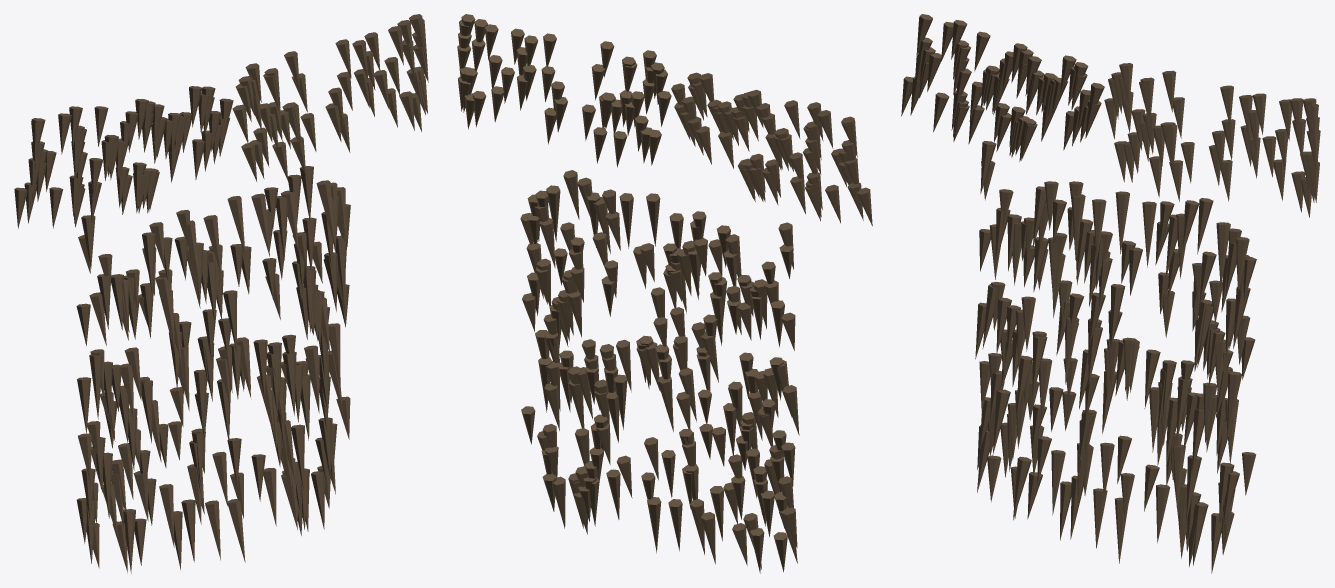
File: goatee.glb
The picture shows the model from 3 angles, left to right: view 1: azimuth 30°, elevation 25°; view 2: azimuth 150°, elevation 25°; view 3: azimuth 330°, elevation 25°; orthographic projection.
Visible parts, largest first — view 1: p183, p295; view 2: no part large enough to name; view 3: p295, p116, p160, p201.
Boxes of the visible parts, left/top/right/bottom form: p183: left=291, top=424, right=304, bottom=491; p295: left=316, top=180, right=334, bottom=245; p295: left=1216, top=222, right=1230, bottom=289; p116: left=1142, top=201, right=1156, bottom=267; p160: left=1051, top=450, right=1065, bottom=515; p201: left=992, top=389, right=1010, bottom=455.
Size of the model in its own units: 0.0975 by 0.113 by 0.00966.
